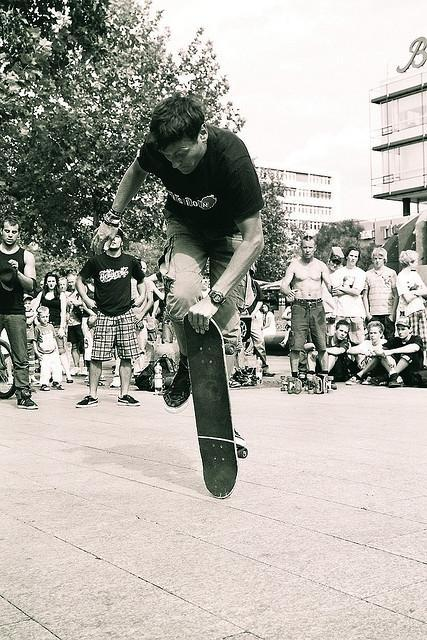bicycle: (0, 338, 16, 400)
